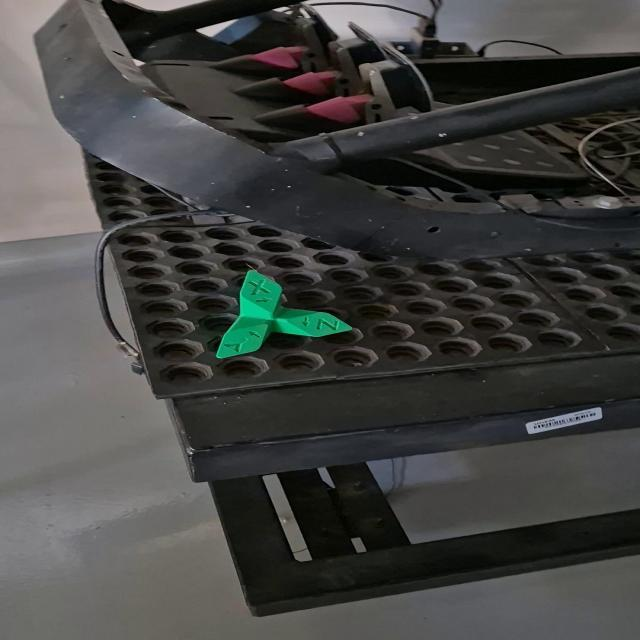eje: (214, 268, 354, 359)
